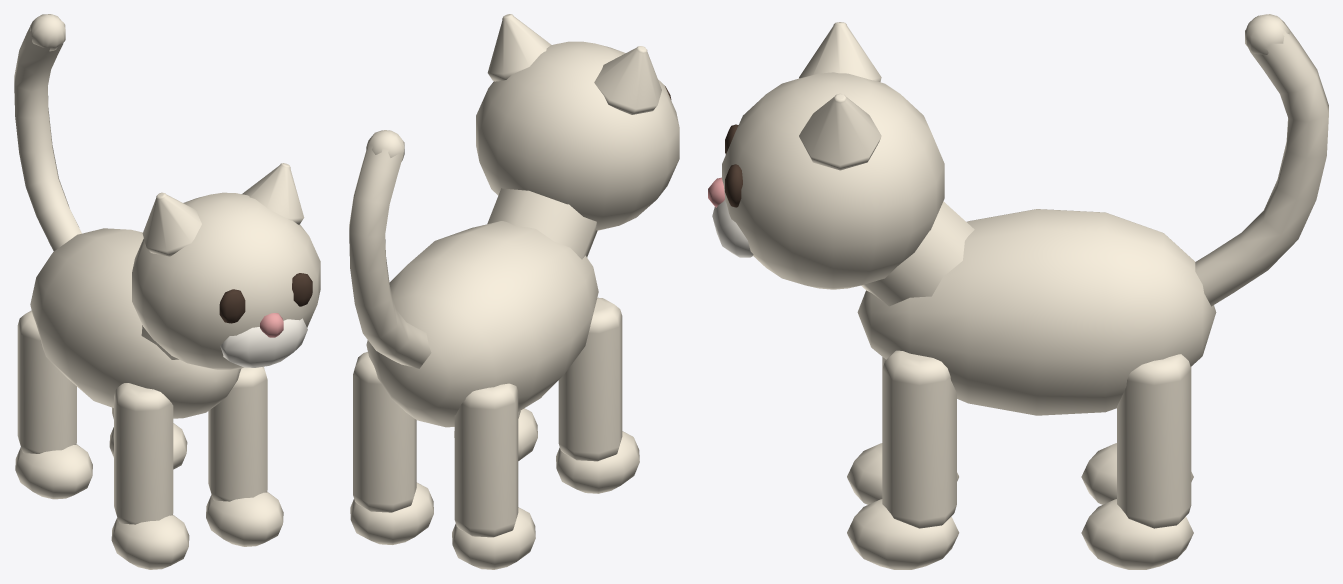
Rendered from pet_kitten_cream.glb.
3 views of the same model, side by side, from view 1: azimuth 30°, elevation 25°; view 2: azimuth 150°, elevation 25°; view 3: azimuth 270°, elevation 25° (orthographic). The views are drawn at different scales.
Visible parts, largest first — view 1: pet_kitten_cream_Head_mesh, pet_kitten_cream_mesh, pet_kitten_cream_LegFL_mesh, pet_kitten_cream_LegFR_mesh, pet_kitten_cream_LegBL_mesh, pet_kitten_cream_Tail_mesh, pet_kitten_cream_LegBR_mesh; view 2: pet_kitten_cream_Head_mesh, pet_kitten_cream_mesh, pet_kitten_cream_LegBL_mesh, pet_kitten_cream_LegFL_mesh, pet_kitten_cream_LegBR_mesh, pet_kitten_cream_Tail_mesh, pet_kitten_cream_LegFR_mesh; view 3: pet_kitten_cream_mesh, pet_kitten_cream_Head_mesh, pet_kitten_cream_LegFR_mesh, pet_kitten_cream_LegBR_mesh, pet_kitten_cream_Tail_mesh, pet_kitten_cream_LegFL_mesh, pet_kitten_cream_LegBL_mesh.
Boxes of the visible parts, box(x1,y1,x2,y2) form: pet_kitten_cream_Head_mesh: box(132, 163, 320, 369); pet_kitten_cream_mesh: box(30, 228, 241, 418); pet_kitten_cream_LegFL_mesh: box(111, 383, 189, 569); pet_kitten_cream_LegFR_mesh: box(206, 366, 283, 546); pet_kitten_cream_LegBL_mesh: box(15, 310, 92, 499); pet_kitten_cream_Tail_mesh: box(14, 14, 81, 251); pet_kitten_cream_LegBR_mesh: box(109, 407, 187, 469); pet_kitten_cream_Head_mesh: box(476, 14, 679, 259); pet_kitten_cream_mesh: box(366, 221, 598, 427); pet_kitten_cream_LegBL_mesh: box(452, 383, 535, 569); pet_kitten_cream_LegFL_mesh: box(556, 297, 639, 493); pet_kitten_cream_LegBR_mesh: box(350, 352, 433, 544); pet_kitten_cream_Tail_mesh: box(349, 130, 431, 368); pet_kitten_cream_LegFR_mesh: box(454, 408, 537, 460); pet_kitten_cream_mesh: box(857, 209, 1216, 415); pet_kitten_cream_Head_mesh: box(708, 22, 974, 306); pet_kitten_cream_LegFR_mesh: box(847, 350, 959, 569); pet_kitten_cream_LegBR_mesh: box(1081, 354, 1193, 569); pet_kitten_cream_Tail_mesh: box(1195, 14, 1328, 306); pet_kitten_cream_LegFL_mesh: box(847, 357, 958, 504); pet_kitten_cream_LegBL_mesh: box(1081, 367, 1193, 504).
Bounding box in the file's own units: 0.1272 × 0.3124 × 0.3375.
